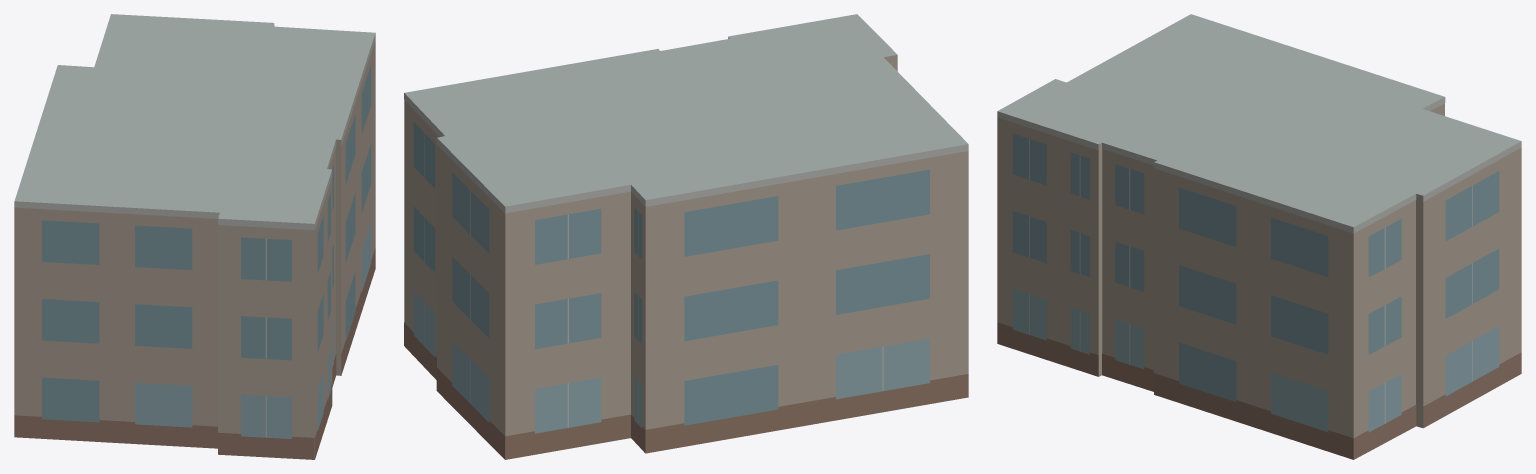
File: survey-upis-33020345.glb
3 views of the same model, side by side, from view 1: azimuth 30°, elevation 25°; view 2: azimuth 150°, elevation 25°; view 3: azimuth 270°, elevation 25° (orthographic). The views are drawn at different scales.
Visible parts, largest first — view 1: survey-upis-33020345.tmp; view 2: survey-upis-33020345.tmp; view 3: survey-upis-33020345.tmp.
Part boxes in pixels (x1=…): survey-upis-33020345.tmp: x1=14, y1=14, x2=375, y2=459; survey-upis-33020345.tmp: x1=404, y1=14, x2=968, y2=459; survey-upis-33020345.tmp: x1=997, y1=14, x2=1521, y2=459.
Bounding box in the file's own units: 18.01 × 9.15 × 18.71.
